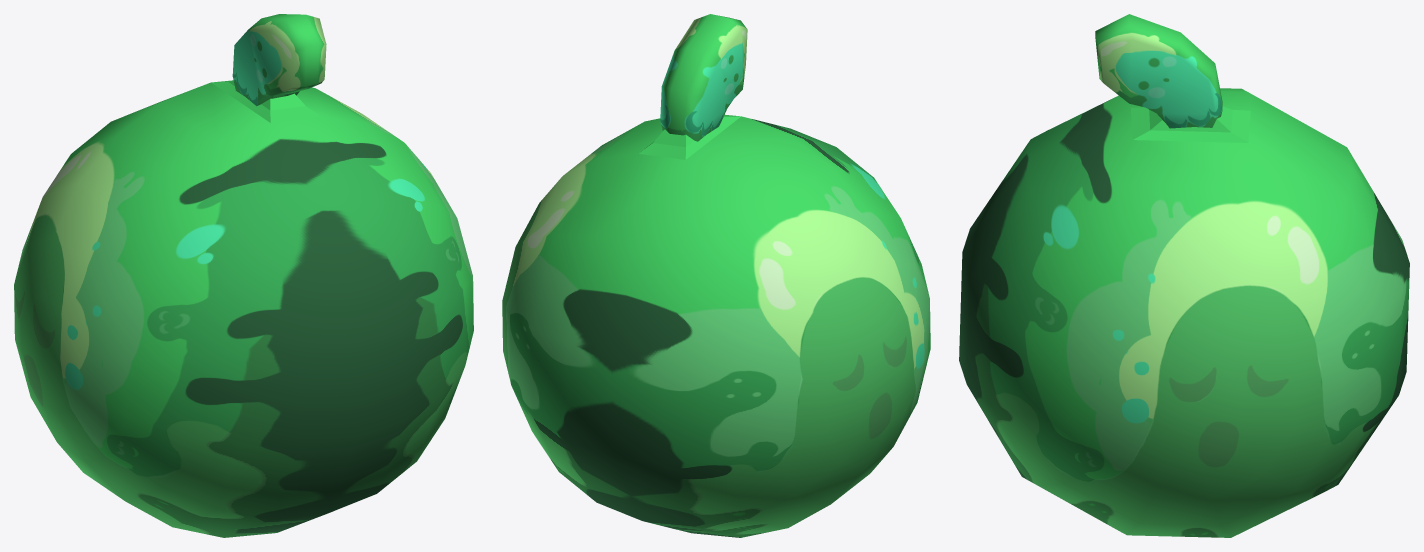
The model's file is GhostSeed.fbx.
3 views of the same model, side by side, from view 1: azimuth 30°, elevation 25°; view 2: azimuth 150°, elevation 25°; view 3: azimuth 270°, elevation 25° (orthographic). The views are drawn at different scales.
Visible parts, largest first — view 1: GhostSeed_mod, GhostArm_12; view 2: GhostSeed_mod, GhostArm_12; view 3: GhostSeed_mod, GhostArm_12.
Part boxes in pixels (x1,y1,x2,y2): GhostSeed_mod: (14, 80, 473, 537); GhostArm_12: (232, 14, 326, 106); GhostSeed_mod: (502, 114, 930, 537); GhostArm_12: (660, 14, 747, 141); GhostSeed_mod: (959, 88, 1409, 537); GhostArm_12: (1095, 14, 1222, 128).
Bounding box in the file's own units: 2.91 × 3.53 × 2.83.
